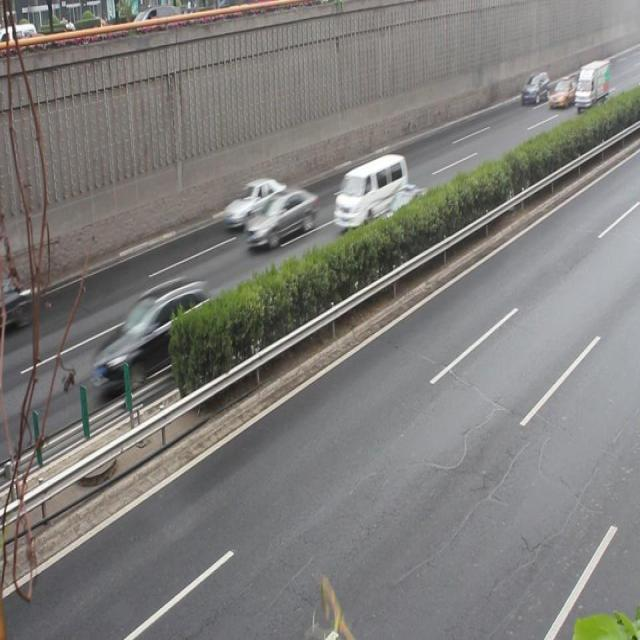bus: (573, 59, 608, 105)
car: (96, 274, 209, 390), (244, 187, 316, 246), (373, 187, 436, 241), (221, 175, 286, 227), (546, 75, 578, 106), (519, 70, 547, 105)
truck: (332, 152, 404, 228)
